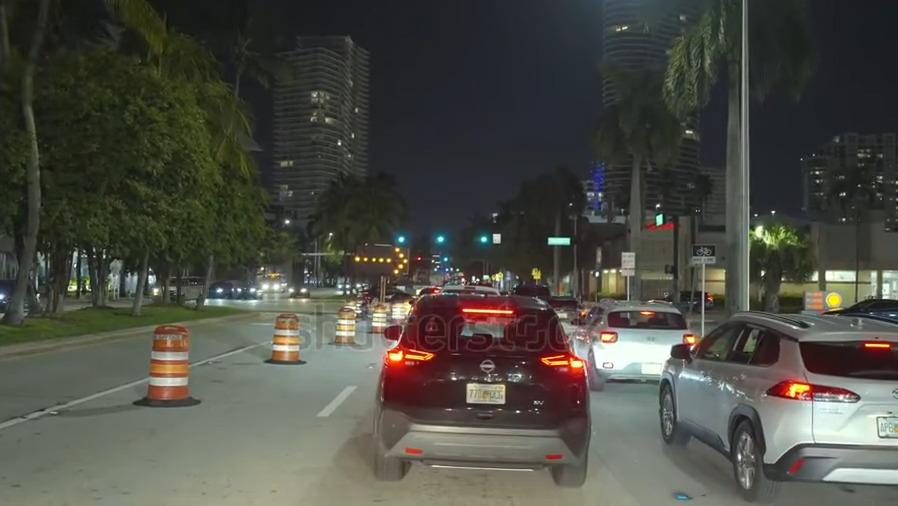arrow traffic sign: (352, 243, 408, 278)
car: (659, 313, 898, 491), (377, 295, 591, 487), (569, 298, 686, 387), (822, 291, 898, 322), (149, 275, 206, 306), (0, 278, 47, 315), (546, 289, 586, 327), (649, 287, 713, 310), (359, 283, 413, 303), (233, 280, 259, 302), (203, 279, 229, 298), (262, 277, 286, 291), (286, 282, 309, 296)
cone: (147, 322, 189, 400), (269, 308, 299, 365), (333, 303, 355, 347), (368, 301, 384, 334), (387, 296, 403, 325)
traffic light: (428, 230, 449, 250), (473, 229, 492, 251), (391, 231, 414, 247)
wheel: (727, 411, 767, 498), (656, 385, 683, 439)
